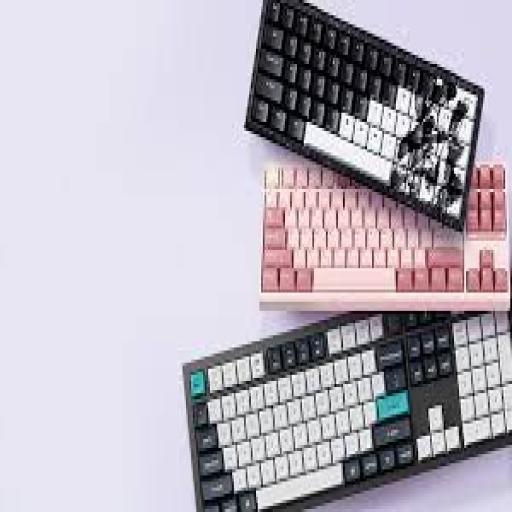KEYBOARD-2: (183, 314, 510, 509), (247, 0, 483, 229), (261, 165, 510, 305)
